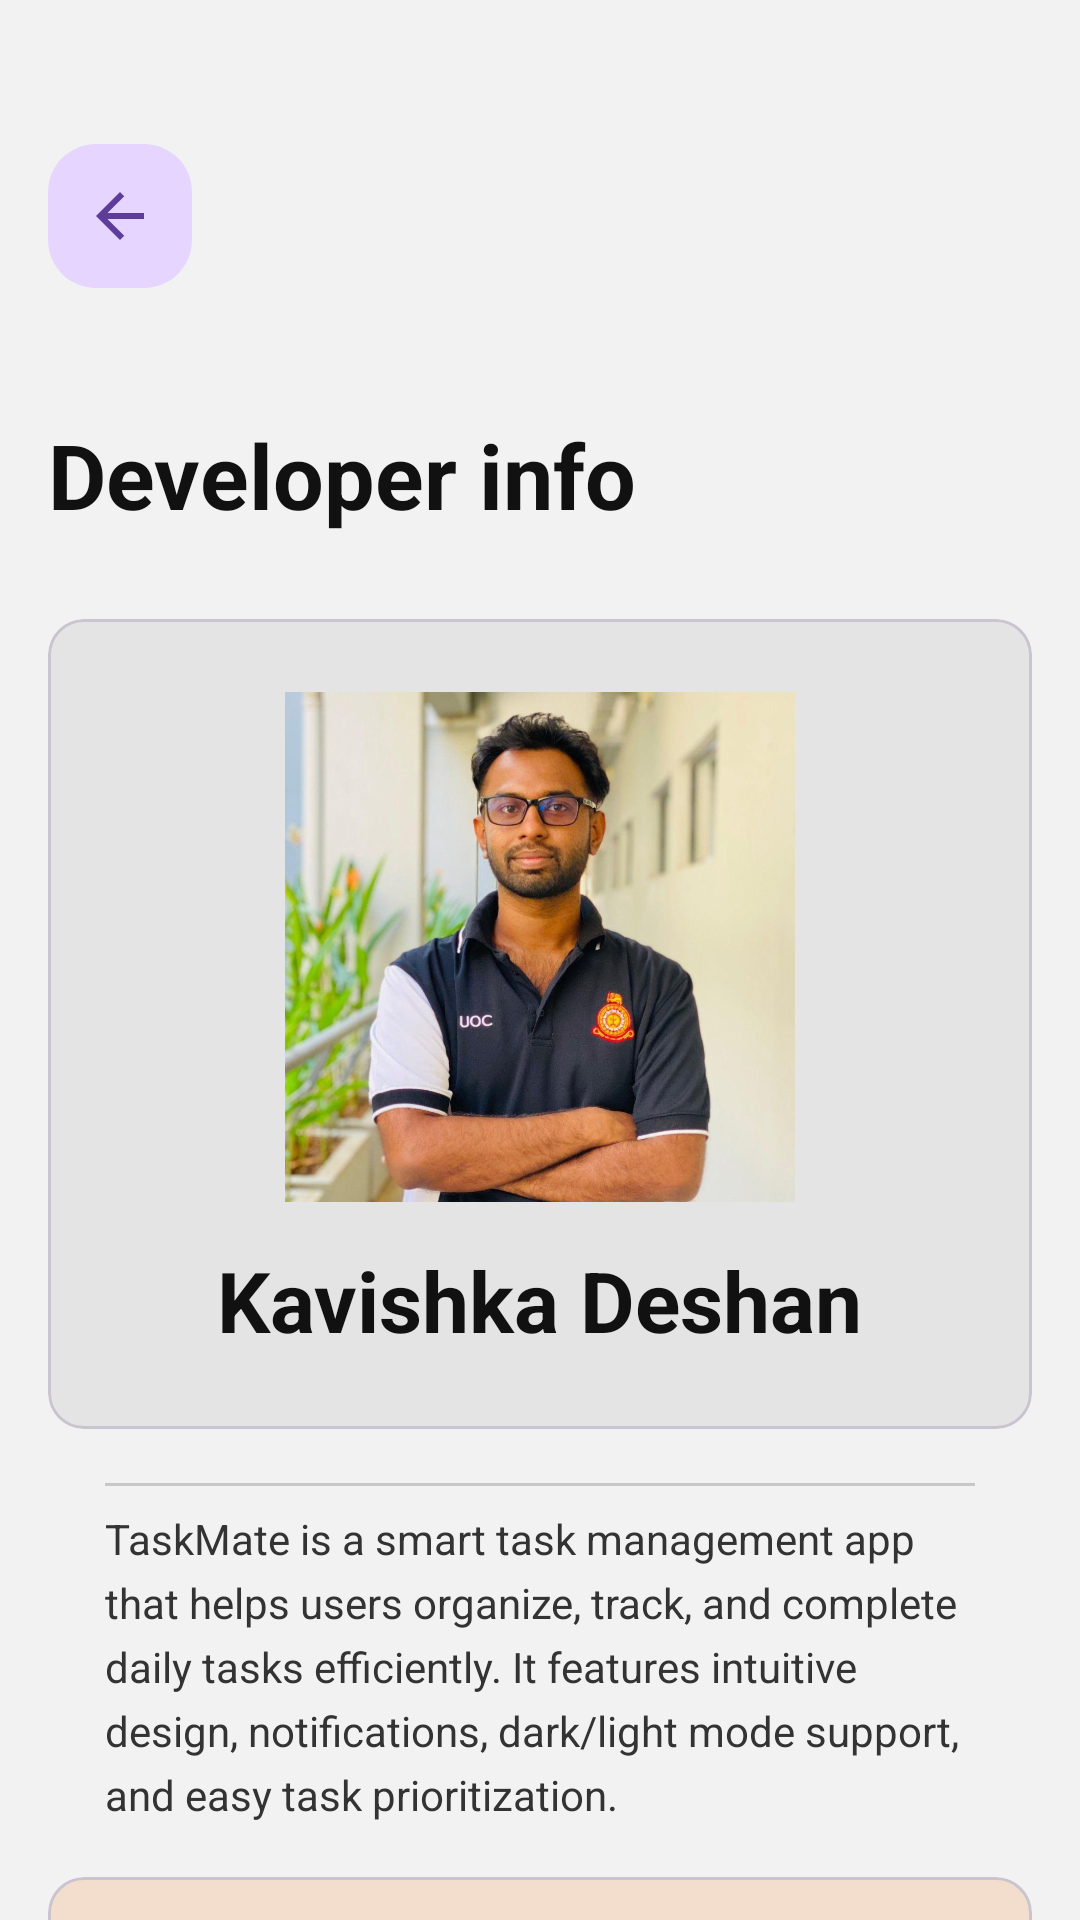

Locate icon controls on the screen. Image size 1080*1920, boxes as box=[x1, y1, x2, y2].
Back: box=[48, 144, 192, 288]
